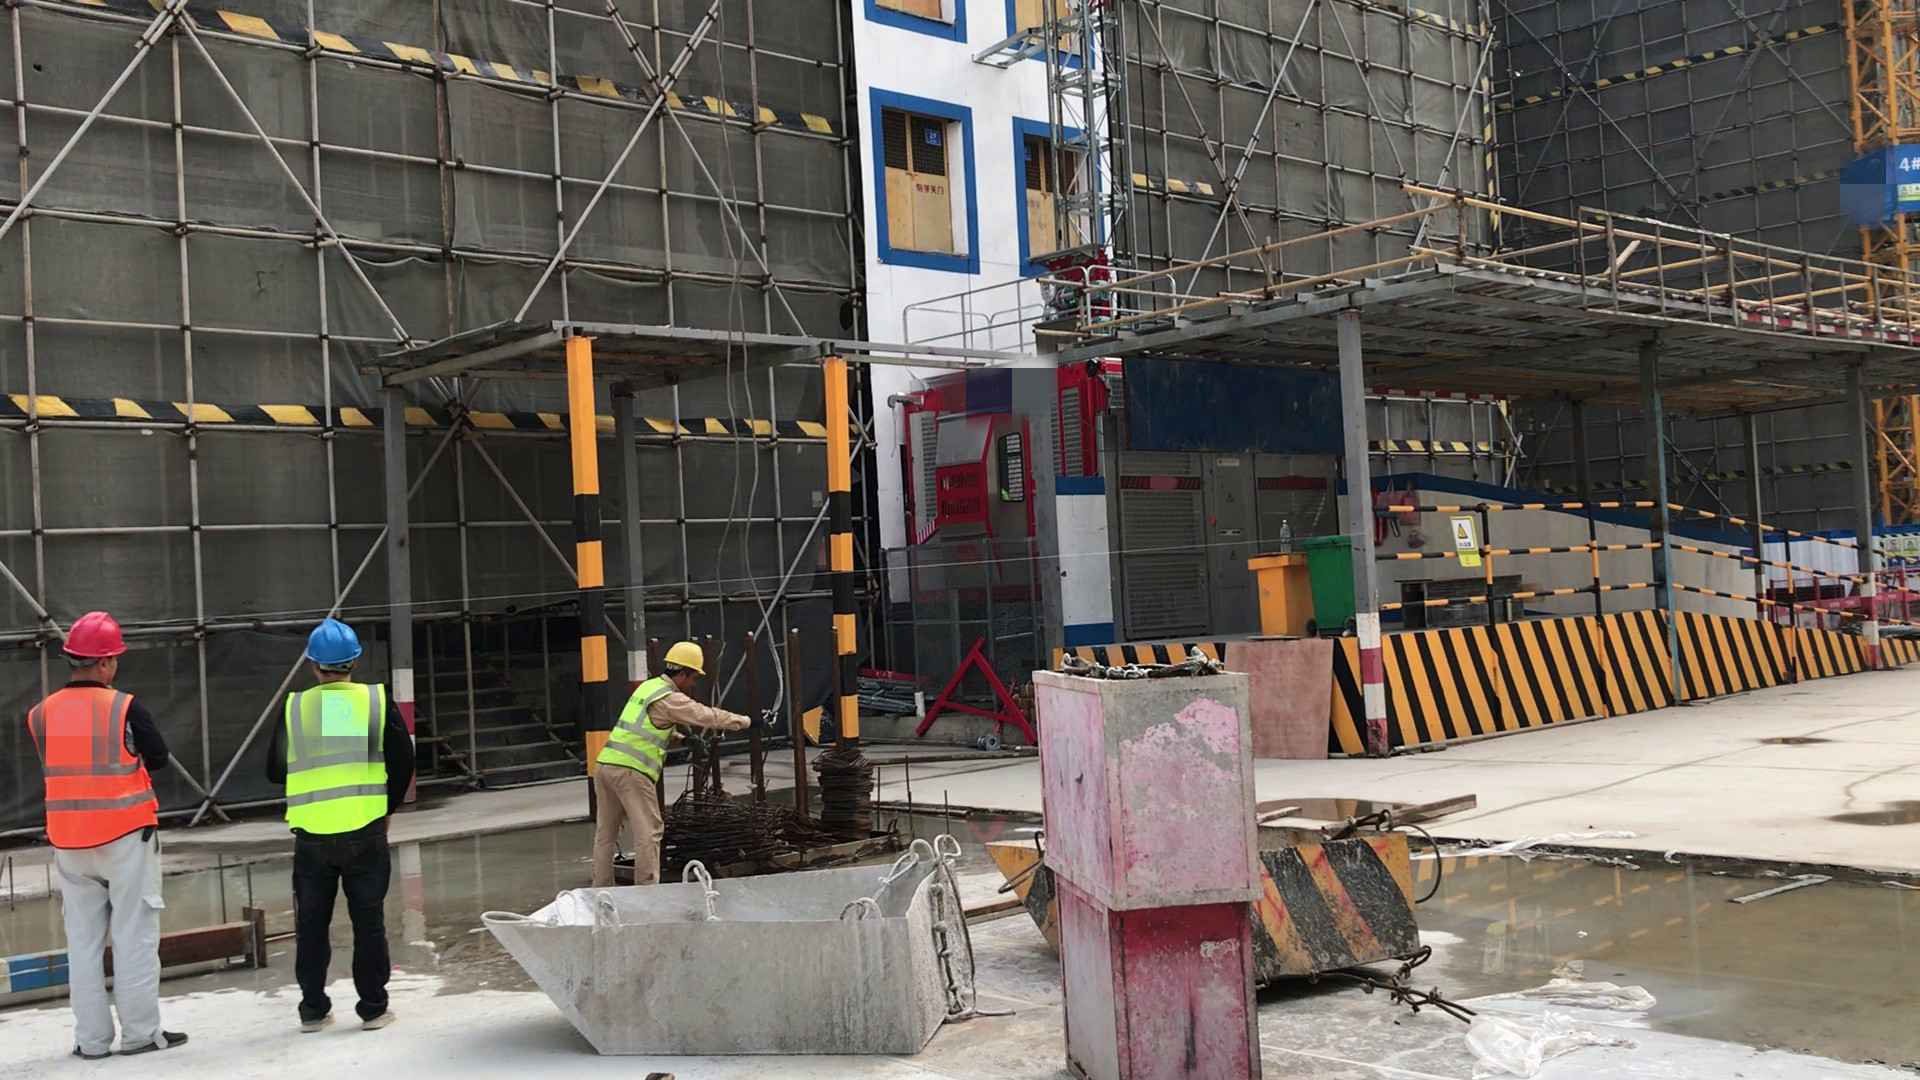fence: (1393, 438, 1920, 664)
helmet: (60, 605, 132, 663), (297, 613, 364, 672), (663, 637, 714, 679)
hopper: (493, 861, 966, 1059), (974, 813, 1430, 987)
person: (28, 608, 196, 1064), (263, 614, 413, 1040), (588, 633, 756, 883)
slogan: (1442, 506, 1496, 584)
vest: (26, 686, 162, 852), (283, 680, 392, 842), (600, 675, 674, 793)
